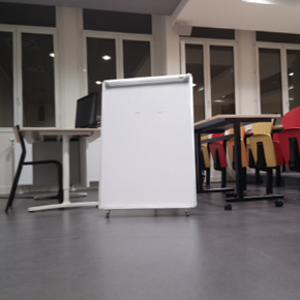big: (99, 77, 198, 214)
